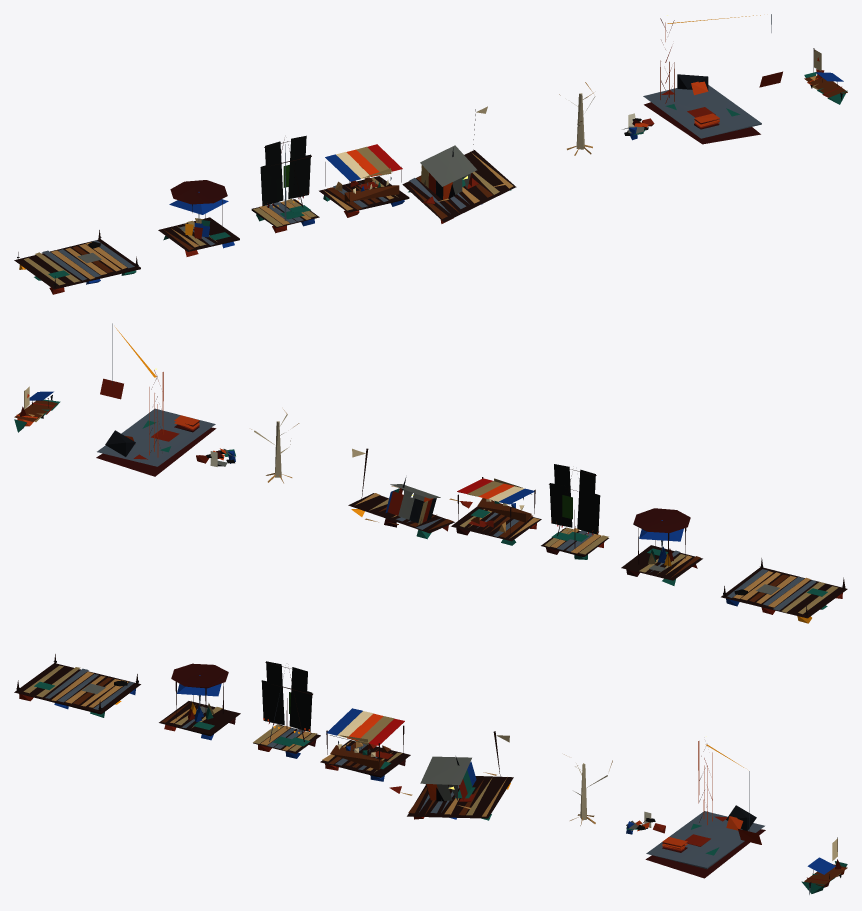
Rendered from tb_outpost_kit.three-web-toon.lod25.glb.
The picture shows the model from 3 angles, top to bottom: view 1: azimuth 30°, elevation 25°; view 2: azimuth 150°, elevation 25°; view 3: azimuth 330°, elevation 25°; orthographic projection.
Visible parts, largest first — view 1: salvage_barge_lod, sinking_platform_lod, net_tower_lod, market_stall_lod, pontoon_lod, rain_catcher_lod, scrap_boat_lod; view 2: salvage_barge_lod, pontoon_lod, net_tower_lod, market_stall_lod, rain_catcher_lod, sinking_platform_lod, scrap_boat_lod; view 3: salvage_barge_lod, sinking_platform_lod, market_stall_lod, net_tower_lod, pontoon_lod, rain_catcher_lod, scrap_boat_lod.
Part boxes in pixels (<box>): salvage_barge_lod: <box>643,14,782,144</box>; sinking_platform_lod: <box>402,106,516,223</box>; net_tower_lod: <box>251,135,319,233</box>; market_stall_lod: <box>319,144,409,217</box>; pontoon_lod: <box>14,230,140,294</box>; rain_catcher_lod: <box>158,180,239,256</box>; scrap_boat_lod: <box>804,48,847,104</box>; salvage_barge_lod: <box>96,323,216,476</box>; pontoon_lod: <box>721,558,847,623</box>; net_tower_lod: <box>541,464,608,559</box>; market_stall_lod: <box>451,477,541,545</box>; rain_catcher_lod: <box>621,508,702,585</box>; sinking_platform_lod: <box>348,448,472,539</box>; scrap_boat_lod: <box>14,386,60,432</box>; salvage_barge_lod: <box>645,736,765,878</box>; sinking_platform_lod: <box>389,731,513,820</box>; market_stall_lod: <box>320,708,410,781</box>; net_tower_lod: <box>253,661,320,758</box>; pontoon_lod: <box>14,654,140,717</box>; rain_catcher_lod: <box>159,663,240,740</box>; scrap_boat_lod: <box>801,837,847,894</box>.
Size of the model in its own units: 92.28 by 14.06 by 12.
